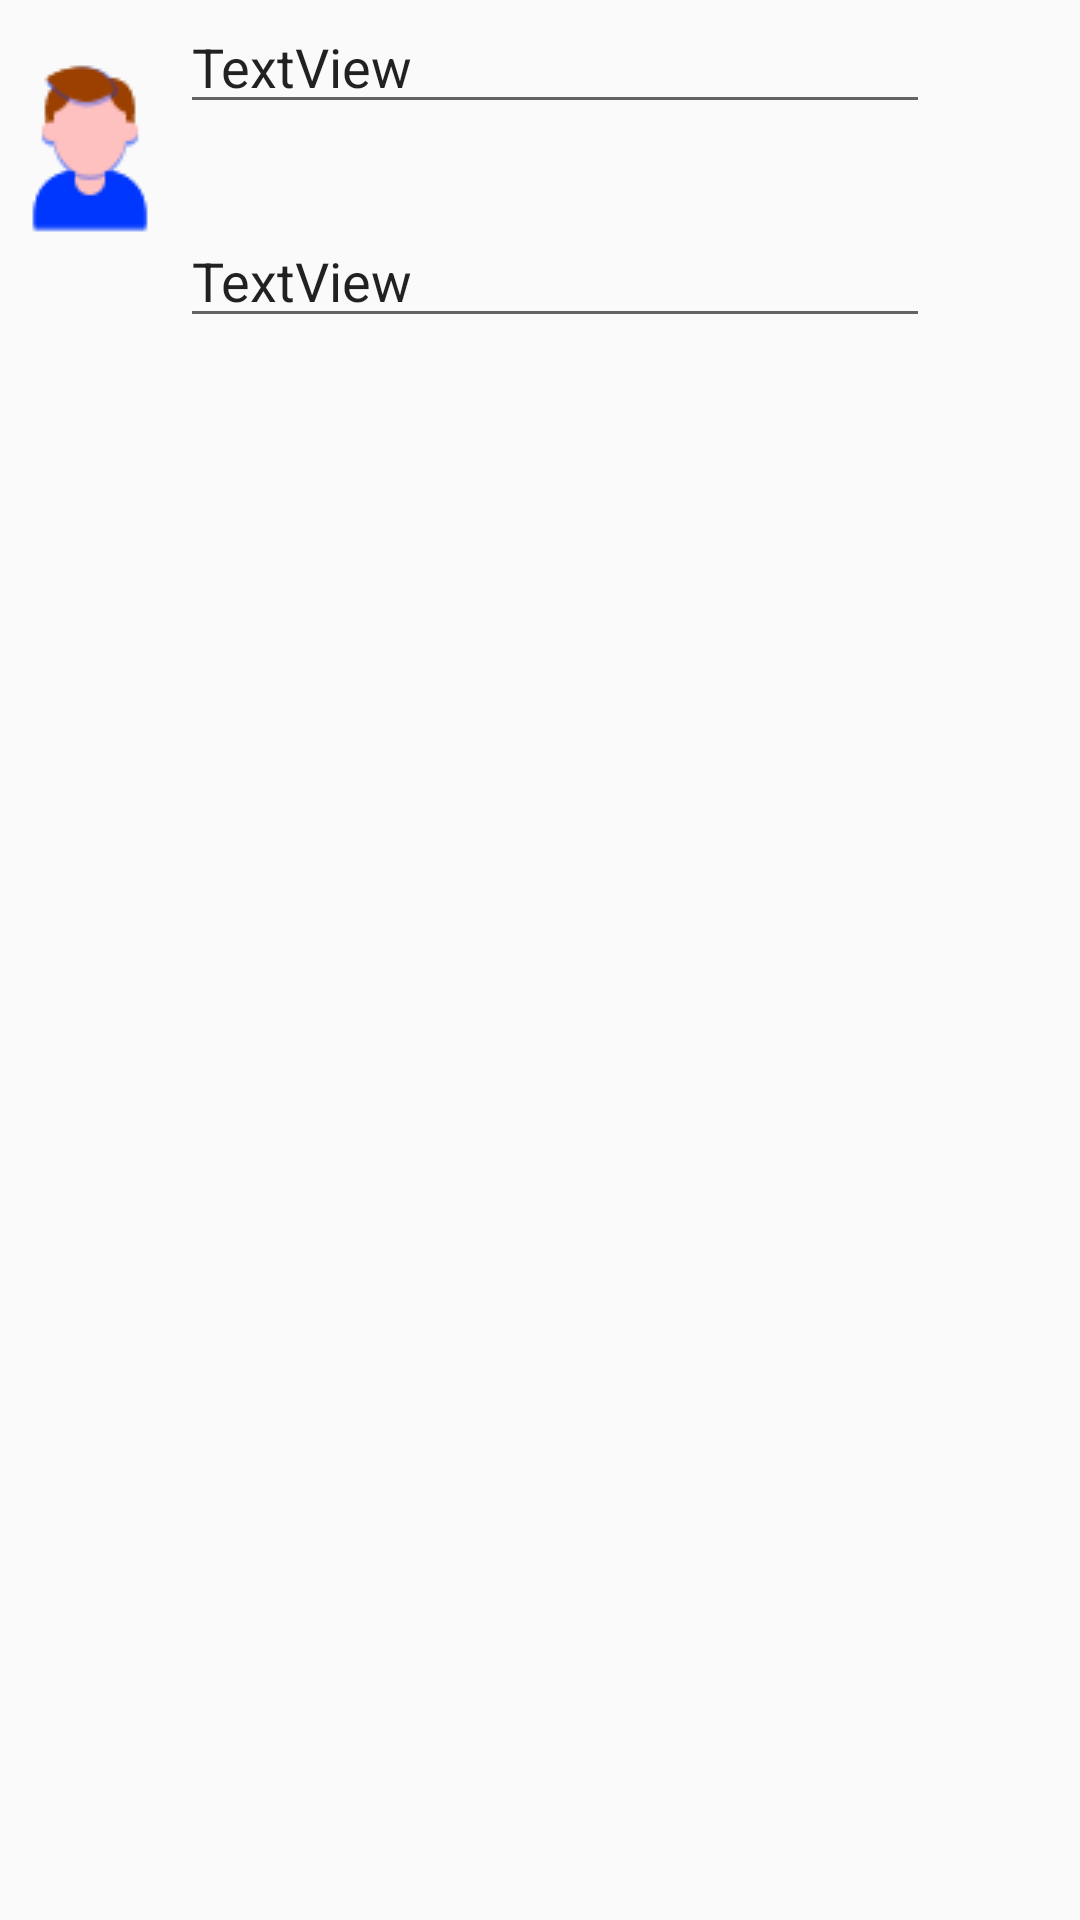

Named icons in this screenshot (1080×1920) and their centers, (x,y):
user: (90,148)
